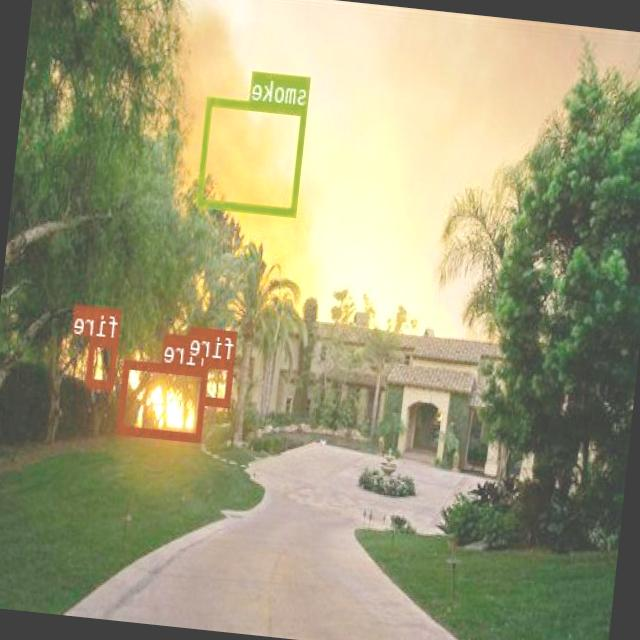fire: (118, 358, 209, 439), (86, 337, 120, 388), (200, 357, 235, 405)
smoke: (198, 96, 308, 216)
